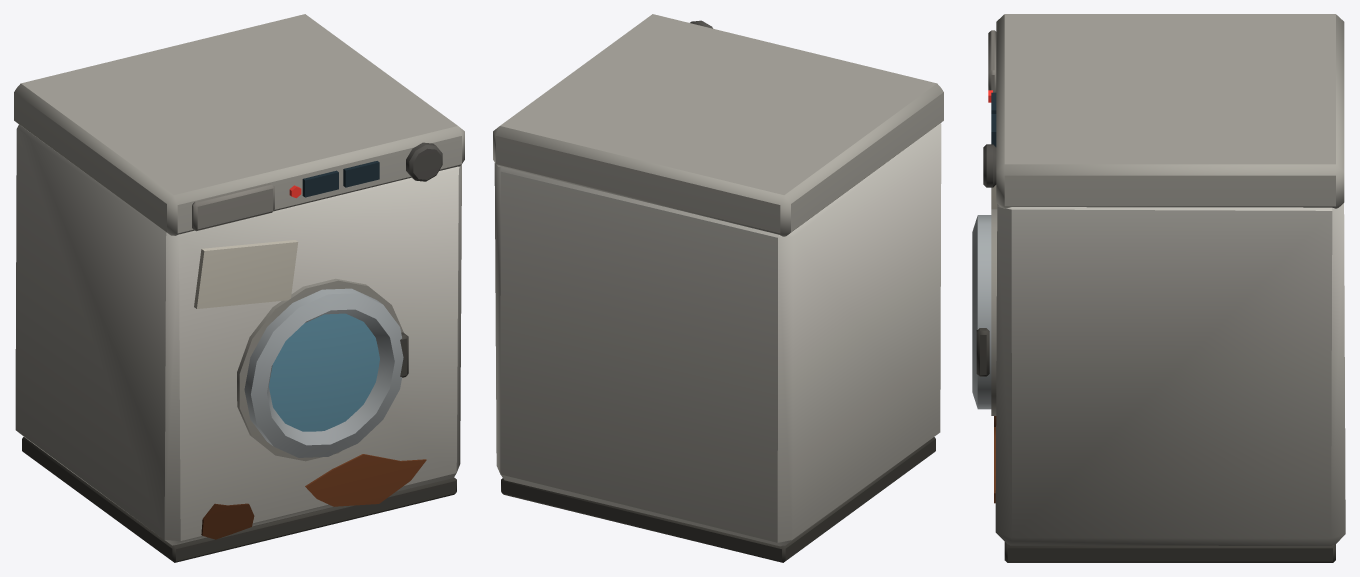
Rendered from 87_lave_linge.fbx.
The picture shows the model from 3 angles, left to right: view 1: azimuth 30°, elevation 25°; view 2: azimuth 150°, elevation 25°; view 3: azimuth 270°, elevation 25°; orthographic projection. The views are drawn at different scales.
Visible parts, largest first — view 1: Machine, Hublot, VitreHublot; view 2: Machine; view 3: Machine, Hublot.
Boxes of the visible parts, x1=… form: Machine: x1=14, y1=14, x2=464, y2=562; Hublot: x1=244, y1=288, x2=408, y2=457; VitreHublot: x1=269, y1=313, x2=379, y2=431; Machine: x1=493, y1=14, x2=943, y2=562; Machine: x1=983, y1=14, x2=1345, y2=562; Hublot: x1=972, y1=215, x2=991, y2=409.
Bounding box in the file's own units: 0.616 × 0.728 × 0.616.
1 material, 1 textured.
